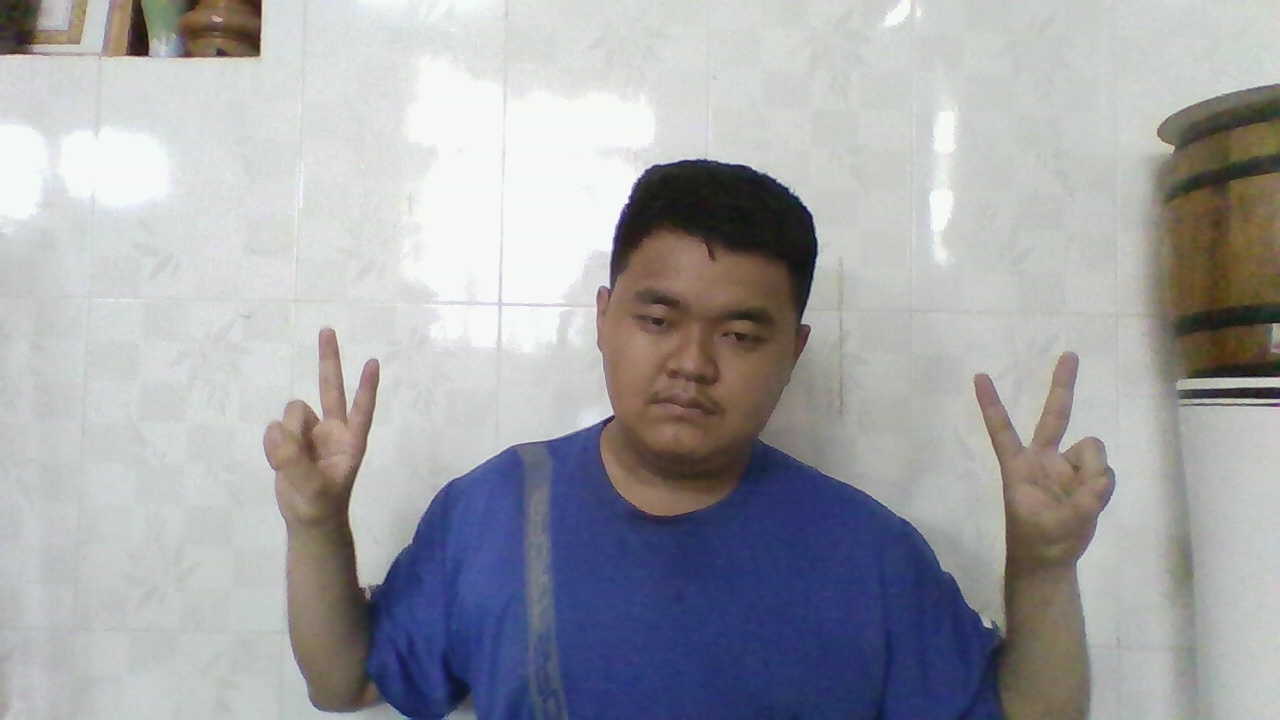V: (963, 341, 1120, 576), (253, 318, 388, 534)
